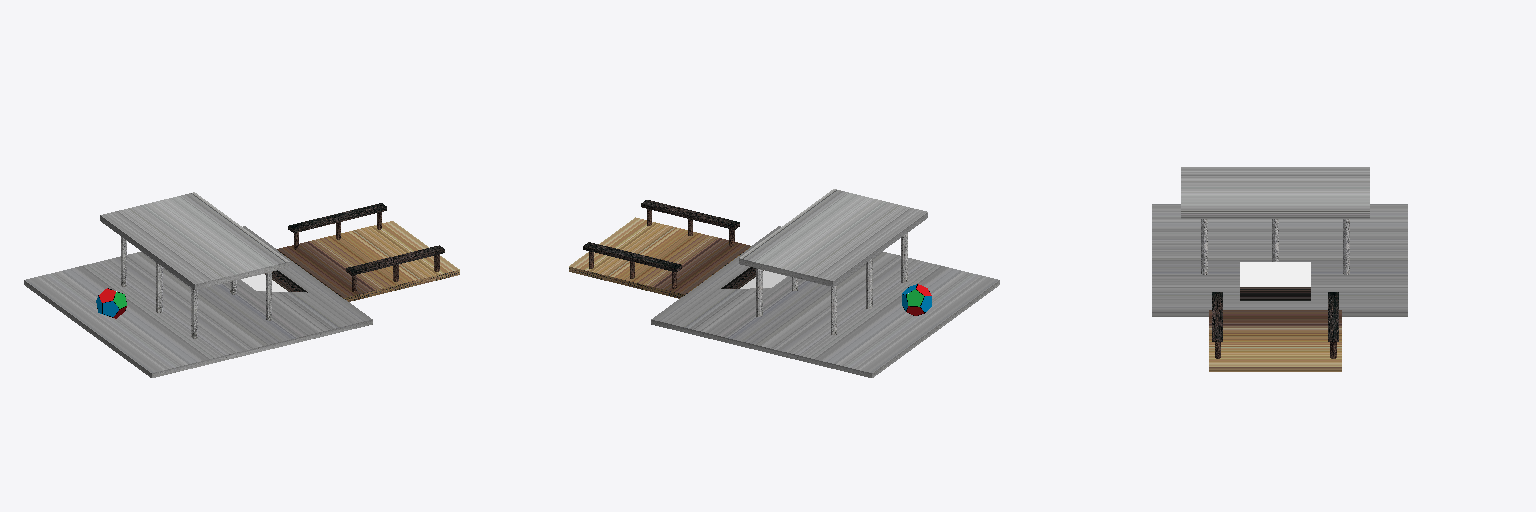
The picture shows the model from 3 angles: view 1: azimuth 30°, elevation 25°; view 2: azimuth 150°, elevation 25°; view 3: azimuth 270°, elevation 25°; orthographic projection.
Visible parts, largest first — view 1: mesh01, mesh02; view 2: mesh01, mesh02; view 3: mesh01, mesh02.
Part boxes in pixels (left/top/right/bottom): mesh01: left=24, top=192, right=459, bottom=377; mesh02: left=241, top=270, right=307, bottom=292; mesh01: left=569, top=189, right=999, bottom=377; mesh02: left=721, top=267, right=786, bottom=288; mesh01: left=1152, top=167, right=1407, bottom=371; mesh02: left=1240, top=262, right=1310, bottom=300.
Bounding box in the file's own units: 409 × 80.77 × 269.
1 materials, 1 textured.